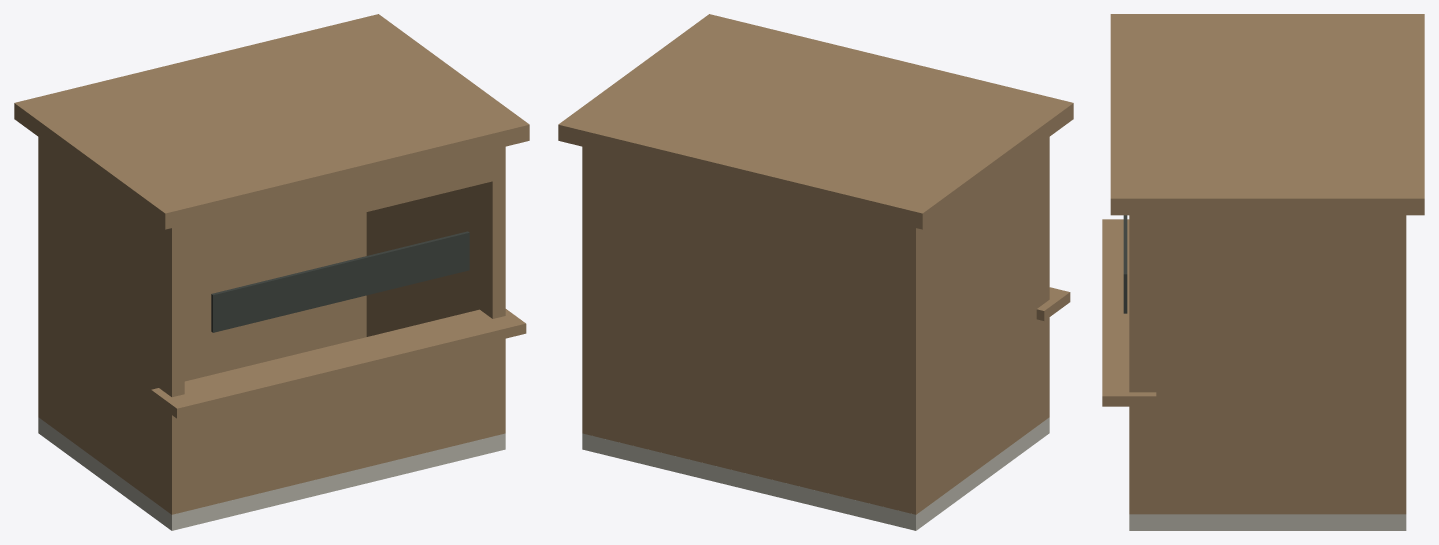
Rendered from zoo-and-safari-park-builder-viewing-hide-68b93c58__21491.glb.
3 views of the same model, side by side, from view 1: azimuth 30°, elevation 25°; view 2: azimuth 150°, elevation 25°; view 3: azimuth 270°, elevation 25° (orthographic). The views are drawn at different scales.
Visible parts, largest first — view 1: viewing-hide; view 2: viewing-hide; view 3: viewing-hide.
Boxes of the visible parts, x1,y1,x2,y2 form: viewing-hide: [14, 14, 529, 530]; viewing-hide: [558, 14, 1073, 530]; viewing-hide: [1102, 14, 1424, 530].
Bounding box in the file's own units: 2.84 × 2.44 × 2.09.
